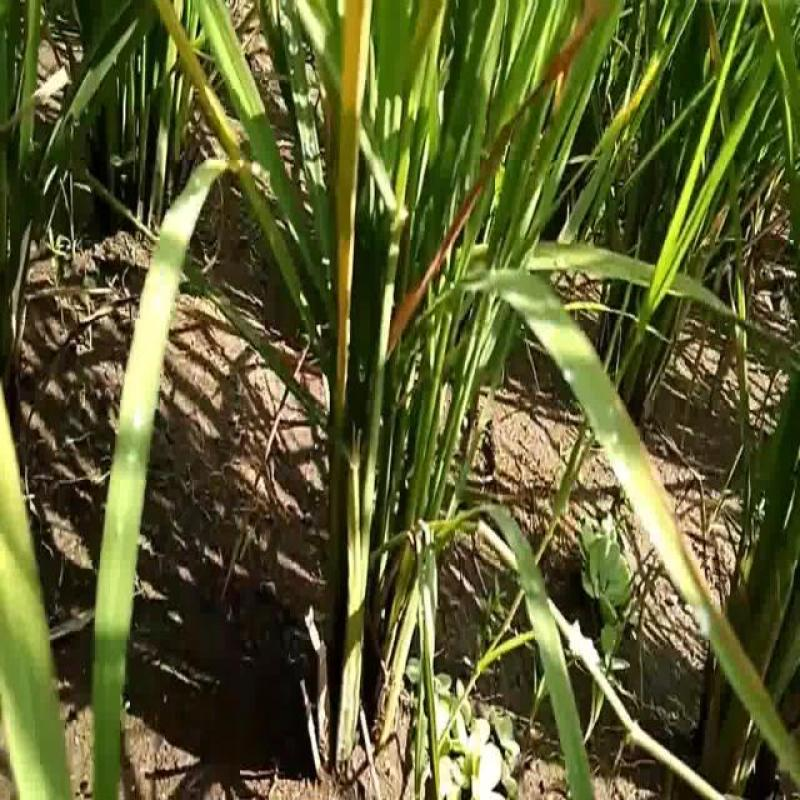Rice Tungro: (609, 404, 766, 751), (326, 2, 378, 407), (159, 4, 249, 205)
